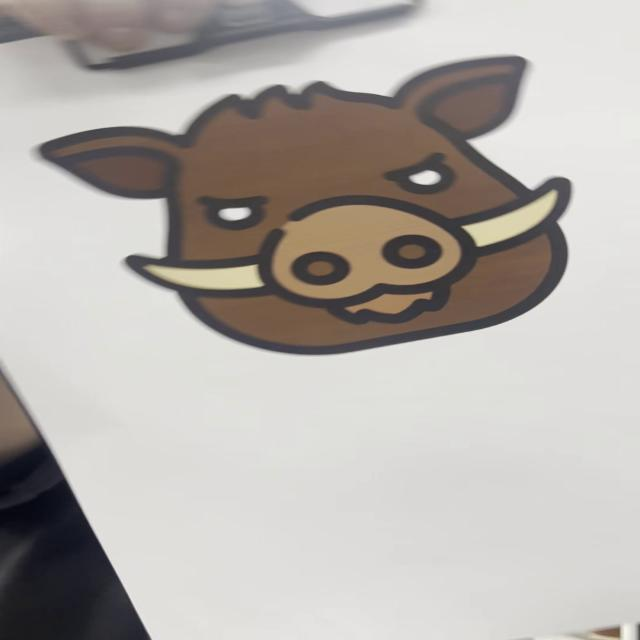animal: (13, 56, 580, 362)
